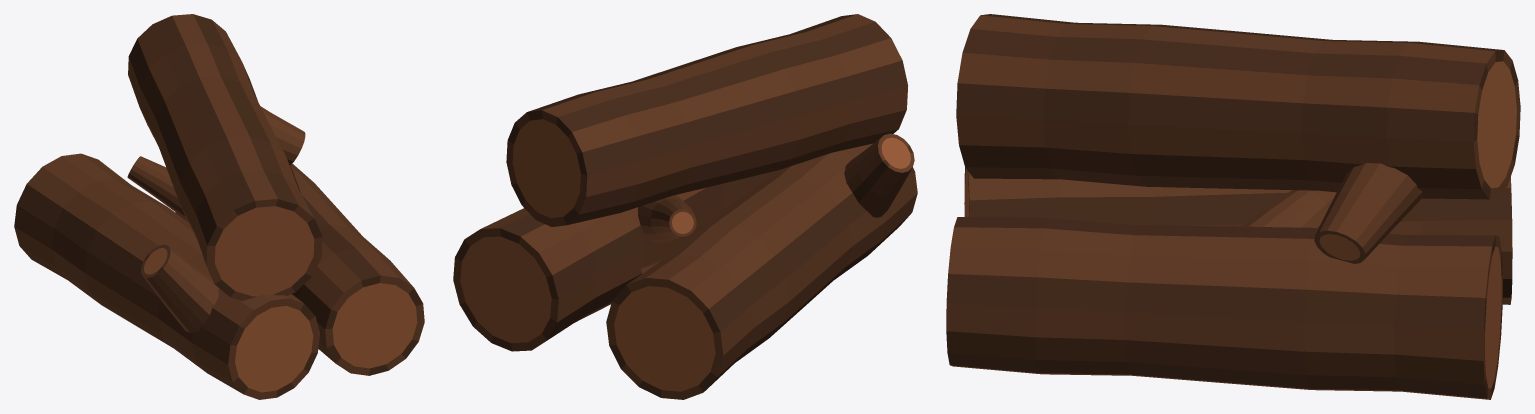
The model's file is PlanksBig3.fbx.
3 renders of one model, left to right at view 1: azimuth 30°, elevation 25°; view 2: azimuth 150°, elevation 25°; view 3: azimuth 270°, elevation 25°, orthographic. The views are drawn at different scales.
Visible parts, largest first — view 1: Cylinder.006; view 2: Cylinder.006; view 3: Cylinder.006.
Part boxes in pixels (x1,y1,x2,y2): Cylinder.006: (14, 14, 424, 399); Cylinder.006: (453, 14, 917, 399); Cylinder.006: (946, 14, 1520, 399).
Bounding box in the file's own units: 149 × 118 × 196.
